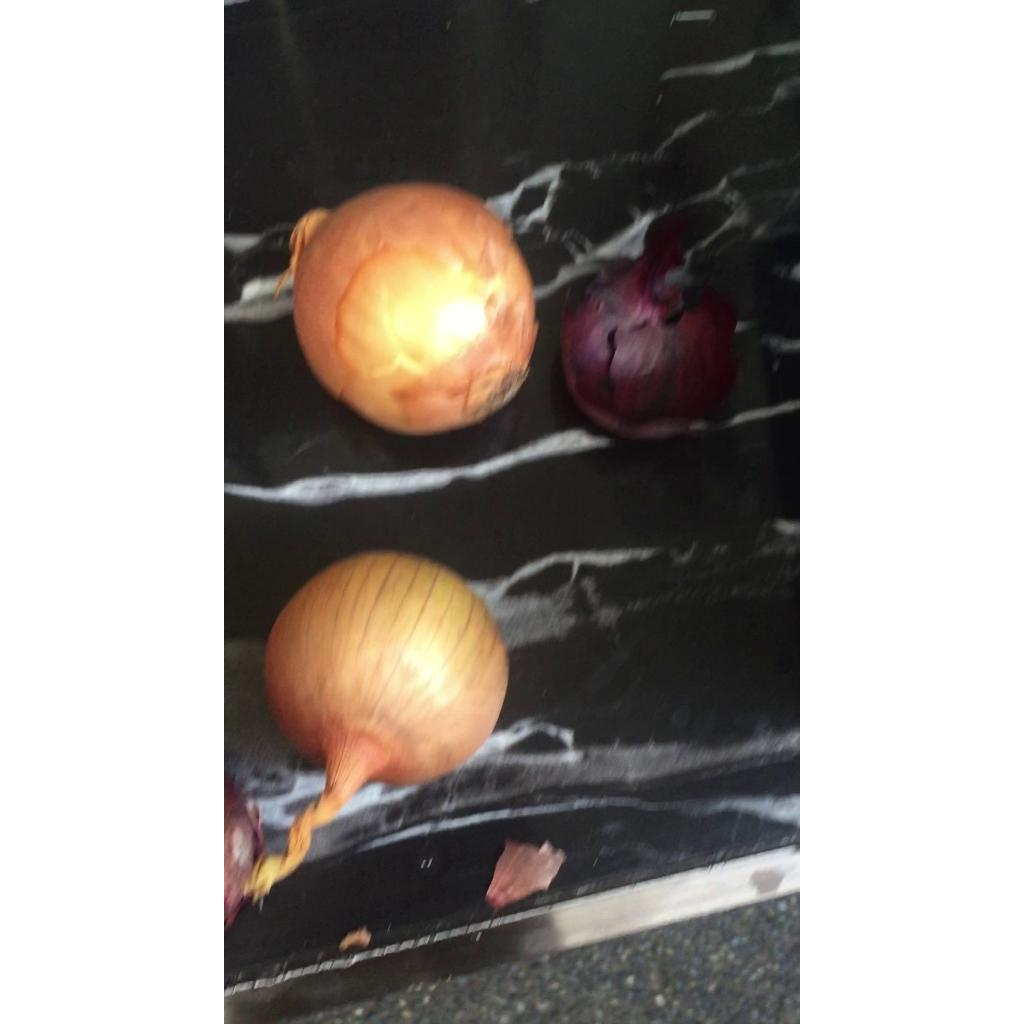Onion: (250, 552, 507, 899), (290, 182, 536, 434)
